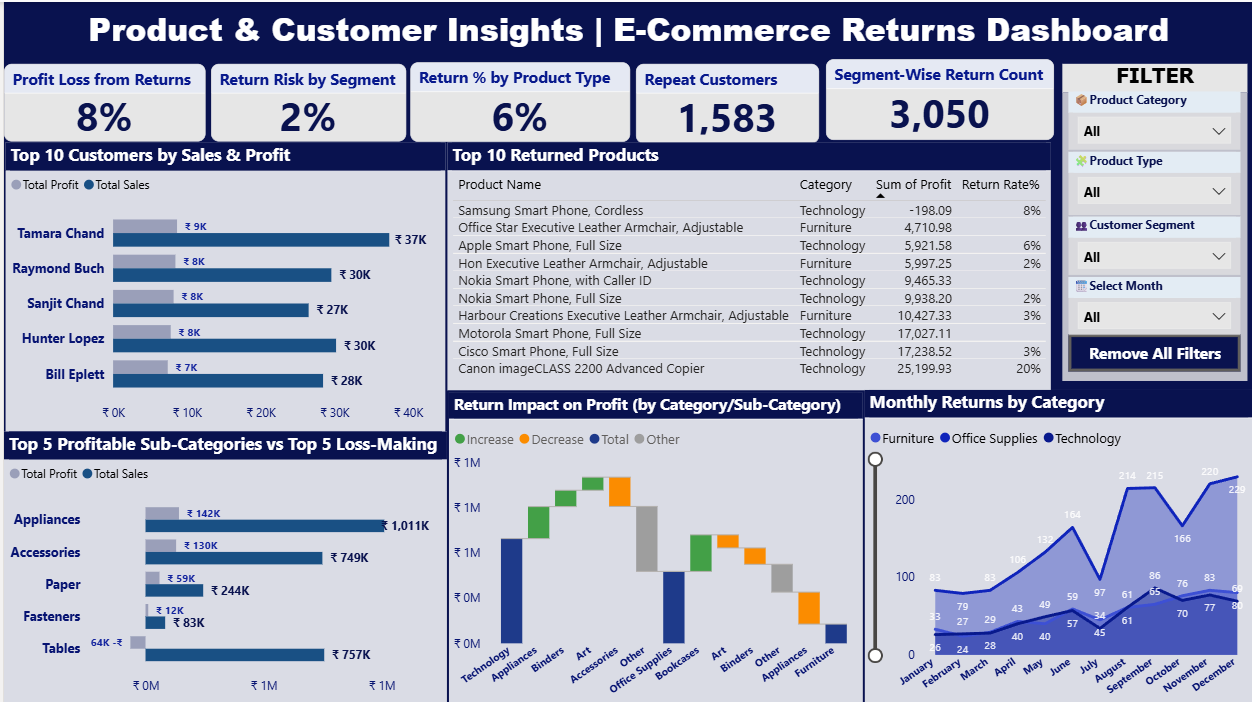

This screenshot's page, from the dashboard's own definition file:
{"tool":"powerbi","page":{"name":"Page 2","canvas":[1280,720],"ordinal":1},"visuals":[{"type":"textbox","box":[0,0,1280.1,64.3],"z":0},{"type":"shape","title":"FILTER","box":[1083.7,62.9,189.6,325.1],"z":0,"group":"g1"},{"type":"card","title":"Repeat Customers","fields":{"Values":["Orders.Repeat Customers"]},"box":[646.8,62.7,187.9,81.3],"z":1000},{"type":"card","title":"Segment-Wise Return Count","fields":{"Values":["Orders.Return Rate by Product"]},"box":[841.5,59.3,233.7,83],"z":2000},{"type":"card","title":"Return % by Product Type","fields":{"Values":["Orders.Avg Return Rate by Sub-Category"]},"box":[416.5,61,225.2,81.3],"z":3000},{"type":"clusteredBarChart","title":"Top 10 Customers by Sales & Profit","fields":{"Y":["Orders.Total Profit","Orders.Total Sales"],"Category":["Orders.Customer Name"]},"box":[1.7,143.9,450.4,296.3],"z":4000},{"type":"clusteredBarChart","title":"Top 5 Profitable Sub-Categories vs Top 5 Loss-Making","fields":{"Category":["Orders.Sub-Category"],"Y":["Orders.Total Profit","Orders.Total Sales"]},"box":[0,440.2,453.8,279.4],"z":5000},{"type":"tableEx","title":"Top 10 Returned Products","fields":{"Values":["Orders.Product Name","Orders.Category","Orders.Profit","Orders.Return Rate (%)"]},"box":[453.8,143.9,618,254],"z":6000},{"type":"lineChart","title":"Monthly Returns by Category","fields":{"Y":["Orders.Returned Orders Count"],"Series":["Orders.Category"],"Category":["Orders.OrderDate.Variation.Date Hierarchy.Month"]},"box":[882.2,397.9,397.9,321.7],"z":7000},{"type":"card","title":" Profit Loss from Returns","fields":{"Values":["Orders.Profit Loss from Returns"]},"box":[0,62.7,206.6,79.6],"z":8000},{"type":"card","title":"Return Risk by Segment","fields":{"Values":["Orders.Return Rate by Segment"]},"box":[211.7,62.7,199.8,79.6],"z":9000},{"type":"group","id":"g1","title":"Group 1","box":[1083.7,62.9,189.6,325.1],"z":10000},{"type":"waterfallChart","title":"Return Impact on Profit (by Category/Sub-Category)","fields":{"Category":["Orders.Category"],"Breakdown":["Orders.Sub-Category"],"Y":["Orders.Total Profit"]},"box":[456.2,400,423.8,318.8],"z":11000},{"type":"actionButton","box":[1089.4,340.2,176.4,38.2],"z":12000,"group":"g1"},{"type":"slicer","title":"📦Product Category","fields":{"Values":["Orders.Category"]},"box":[1089.4,91.6,176.4,59.3],"z":14000,"group":"g1"},{"type":"slicer","title":"👥Customer Segment","fields":{"Values":["Orders.Segment"]},"box":[1089.4,219.7,176.4,59.3],"z":15000,"group":"g1"},{"type":"slicer","title":"🗓️Select Month","fields":{"Values":["Orders.OrderDate.Variation.Date Hierarchy.Month"]},"box":[1089.4,280.9,176.4,59.3],"z":16000,"group":"g1"},{"type":"slicer","title":"🧩Product Type","fields":{"Values":["Orders.Sub-Category"]},"box":[1089.4,152.8,176.4,65],"z":17000,"group":"g1"}]}

Visuals, with their boxes in screenshot pixels (x1, y1, x2, y2), scaled from the page's 1280x720 canvas onto the 1252x702 screenshot:
textbox: pyautogui.locateOnScreen(0, 0, 1251, 63)
"FILTER" shape: pyautogui.locateOnScreen(1060, 61, 1245, 378)
"Repeat Customers" card: pyautogui.locateOnScreen(633, 61, 816, 140)
"Segment-Wise Return Count" card: pyautogui.locateOnScreen(823, 58, 1052, 139)
"Return % by Product Type" card: pyautogui.locateOnScreen(407, 59, 628, 139)
"Top 10 Customers by Sales & Profit" clusteredBarChart: pyautogui.locateOnScreen(2, 140, 442, 429)
"Top 5 Profitable Sub-Categories vs Top 5 Loss-Making" clusteredBarChart: pyautogui.locateOnScreen(0, 429, 444, 701)
"Top 10 Returned Products" tableEx: pyautogui.locateOnScreen(444, 140, 1048, 388)
"Monthly Returns by Category" lineChart: pyautogui.locateOnScreen(863, 388, 1251, 701)
" Profit Loss from Returns" card: pyautogui.locateOnScreen(0, 61, 202, 139)
"Return Risk by Segment" card: pyautogui.locateOnScreen(207, 61, 402, 139)
"Group 1" group: pyautogui.locateOnScreen(1060, 61, 1245, 378)
"Return Impact on Profit (by Category/Sub-Category)" waterfallChart: pyautogui.locateOnScreen(446, 390, 861, 701)
actionButton: pyautogui.locateOnScreen(1066, 332, 1238, 369)
"📦Product Category" slicer: pyautogui.locateOnScreen(1066, 89, 1238, 147)
"👥Customer Segment" slicer: pyautogui.locateOnScreen(1066, 214, 1238, 272)
"🗓️Select Month" slicer: pyautogui.locateOnScreen(1066, 274, 1238, 332)
"🧩Product Type" slicer: pyautogui.locateOnScreen(1066, 149, 1238, 212)
